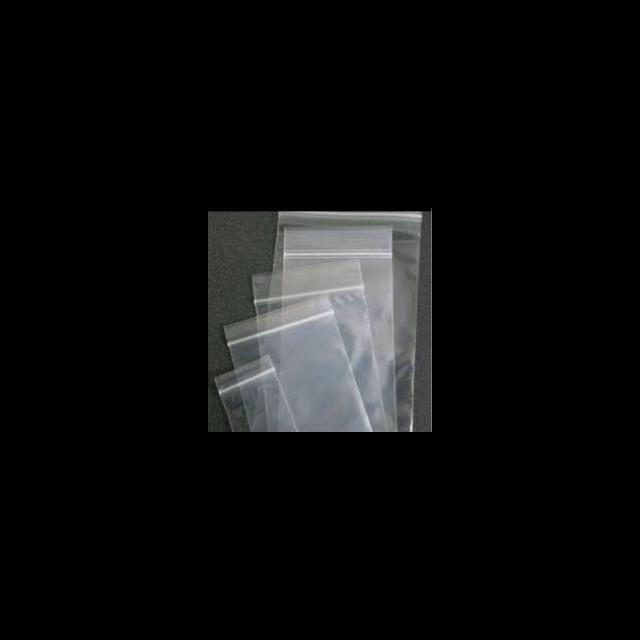plastic: (285, 218, 416, 432), (218, 303, 369, 432)
